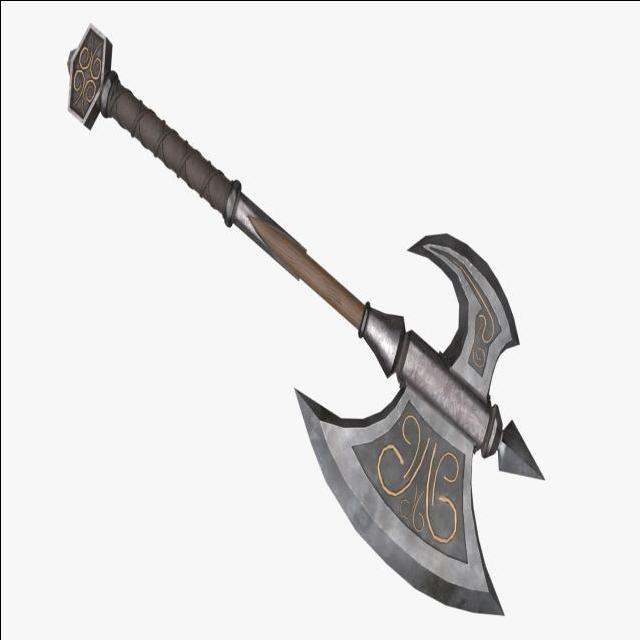axe: (66, 23, 547, 620)
